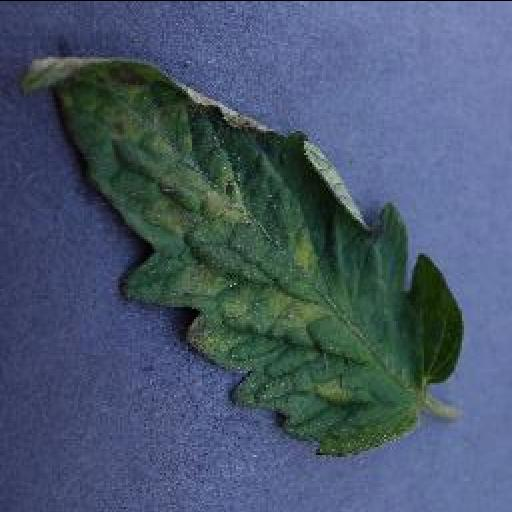disease_tomato: (22, 54, 466, 452)
